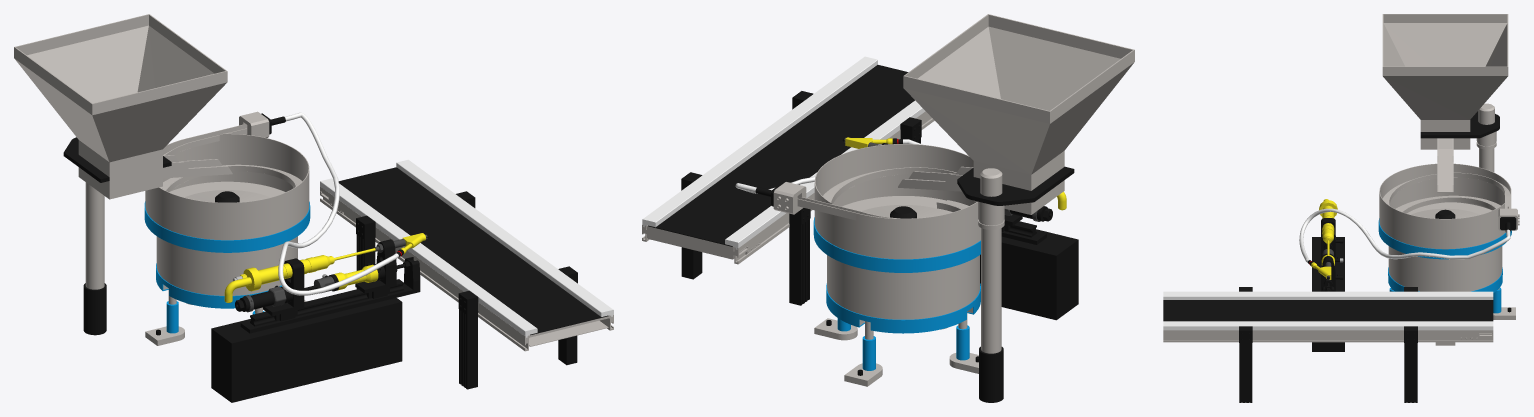
File: Pin_Insertion_Station.glb
The picture shows the model from 3 angles, left to right: view 1: azimuth 30°, elevation 25°; view 2: azimuth 150°, elevation 25°; view 3: azimuth 270°, elevation 25°; orthographic projection. The views are drawn at different scales.
Parts seen in each view (by area): view 1: color-25[25], color, color-25[20], color-26[2], color-25[5], color-26[3], color-26[4], color-26[5], color-25, color-25[29], color-21, color-15 (+9 smaller); view 2: color-25[25], color-25[20], color-26[2], color-25[5], color, color-26[3], color-25[29], color-25, color-25[6], color-25[21], color-27, color-26[4] (+14 smaller); view 3: color-25[25], color-25[20], color-26[2], color-25[5], color-26[5], color-26[3], color-26[4], color, color-25[21], color-21, color-25, color-27[2] (+7 smaller).
Boxes of the visible parts, <box> form: color-25[25]: <box>14,14,232,199</box>; color: <box>211,239,420,402</box>; color-25[20]: <box>145,133,309,240</box>; color-26[2]: <box>338,167,608,335</box>; color-25[5]: <box>156,236,297,295</box>; color-26[3]: <box>396,159,613,316</box>; color-26[4]: <box>320,178,537,337</box>; color-26[5]: <box>336,201,613,351</box>; color-25: <box>144,201,310,252</box>; color-25[29]: <box>85,182,104,289</box>; color-21: <box>278,112,398,295</box>; color-15: <box>224,233,425,302</box>; color-25[25]: <box>898,14,1134,214</box>; color-25[20]: <box>814,144,980,259</box>; color-26[2]: <box>648,65,914,246</box>; color-25[5]: <box>827,255,979,325</box>; color: <box>881,143,1078,320</box>; color-26[3]: <box>642,56,877,227</box>; color-25[29]: <box>981,228,1001,353</box>; color-25: <box>813,217,980,272</box>; color-25[6]: <box>826,283,980,333</box>; color-25[21]: <box>797,167,968,220</box>; color-27: <box>789,208,810,305</box>; color-26[4]: <box>725,100,925,249</box>; color-25[25]: <box>1382,14,1508,192</box>; color-25[20]: <box>1379,163,1511,249</box>; color-26[2]: <box>1163,300,1493,321</box>; color-25[5]: <box>1388,246,1502,291</box>; color-26[5]: <box>1163,330,1468,342</box>; color-26[3]: <box>1163,321,1493,330</box>; color-26[4]: <box>1163,291,1493,299</box>; color: <box>1312,218,1344,351</box>; color-25[21]: <box>1382,172,1511,213</box>; color-21: <box>1299,208,1510,262</box>; color-25: <box>1378,218,1511,259</box>; color-27[2]: <box>1239,326,1252,402</box>.
Size of the model in its own units: 1.12 by 0.7801 by 1.08.
